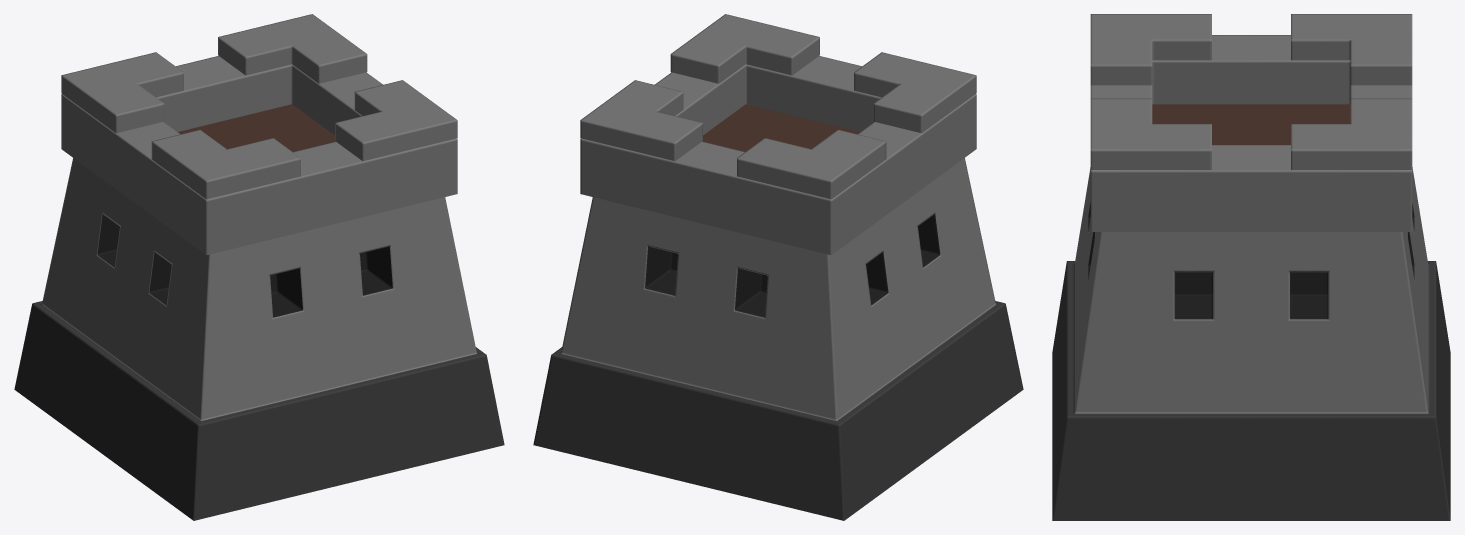
The model's file is Tower_Secondary.fbx.
The picture shows the model from 3 angles, left to right: view 1: azimuth 30°, elevation 25°; view 2: azimuth 150°, elevation 25°; view 3: azimuth 270°, elevation 25°; orthographic projection. The views are drawn at different scales.
Parts seen in each view (by area): view 1: Tower_2; view 2: Tower_2; view 3: Tower_2.
Boxes of the visible parts, <box> form: Tower_2: <box>14,14,504,520</box>; Tower_2: <box>533,14,1023,520</box>; Tower_2: <box>1052,14,1450,520</box>.
Size of the model in its own units: 241 by 237 by 241.
